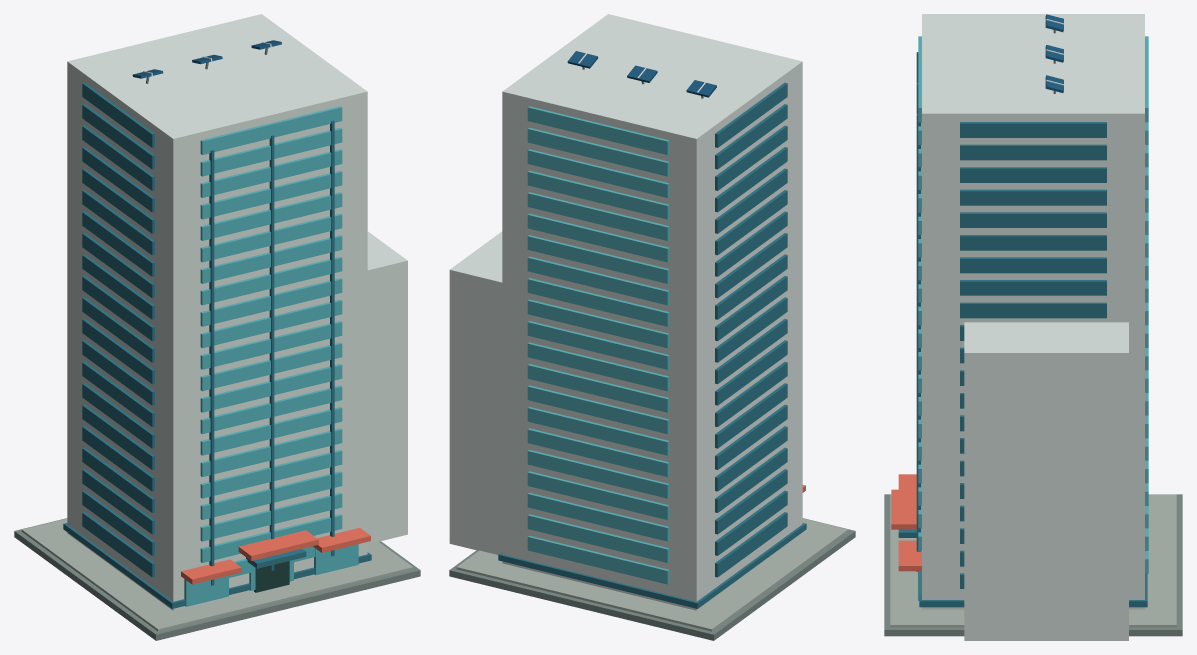
File: office_lv4.glb
The picture shows the model from 3 angles, left to right: view 1: azimuth 30°, elevation 25°; view 2: azimuth 150°, elevation 25°; view 3: azimuth 270°, elevation 25°; orthographic projection. The views are drawn at different scales.
Parts seen in each view (by area): view 1: white, glass, glassDark, concrete, pavement, coral, dark; view 2: white, glass, glassDark, concrete, pavement, solar; view 3: white, glassDark, concrete, glass, pavement, coral, solar.
Part boxes in pixels (x1,y1,x2,y2): white: (67, 14, 407, 610); glass: (184, 106, 358, 606); glassDark: (63, 82, 371, 608); concrete: (21, 518, 413, 631); pavement: (14, 518, 420, 640); coral: (181, 527, 370, 584); dark: (254, 561, 289, 592); white: (449, 14, 802, 610); glass: (527, 106, 669, 584); glassDark: (498, 82, 806, 608); concrete: (456, 518, 848, 631); pavement: (449, 518, 855, 640); solar: (567, 51, 716, 97); white: (922, 14, 1144, 640); glassDark: (898, 52, 1147, 607); concrete: (890, 494, 1176, 627); glass: (918, 36, 1148, 600); pavement: (884, 494, 1182, 636); coral: (891, 474, 921, 571); solar: (1045, 14, 1063, 92).
Size of the model in its own units: 10.73 by 17.48 by 9.1.
